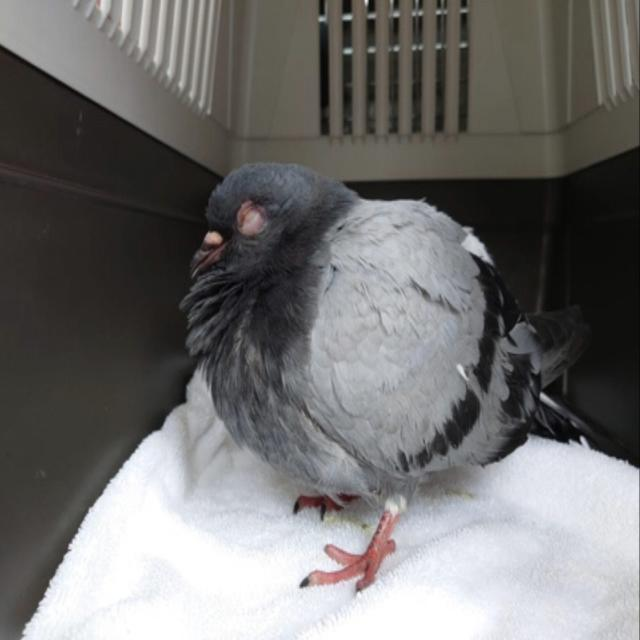pigeon: (181, 163, 590, 590)
